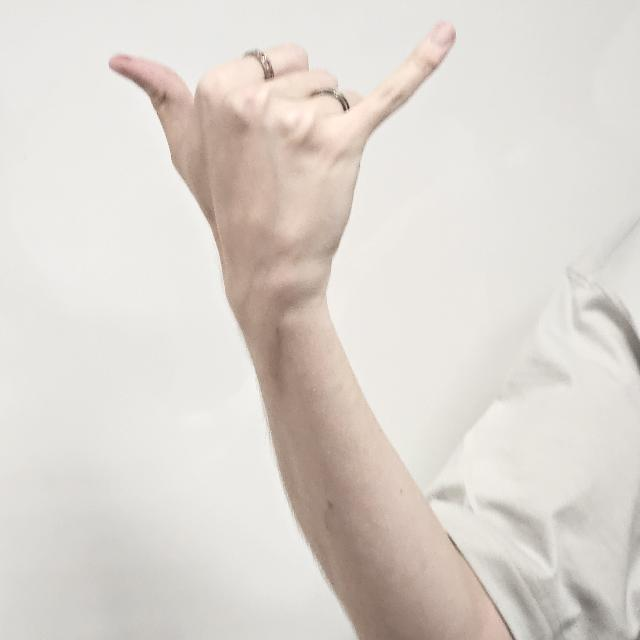Direita: (104, 24, 490, 320)
